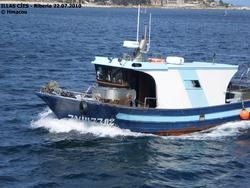otherboat: (32, 29, 250, 136)
